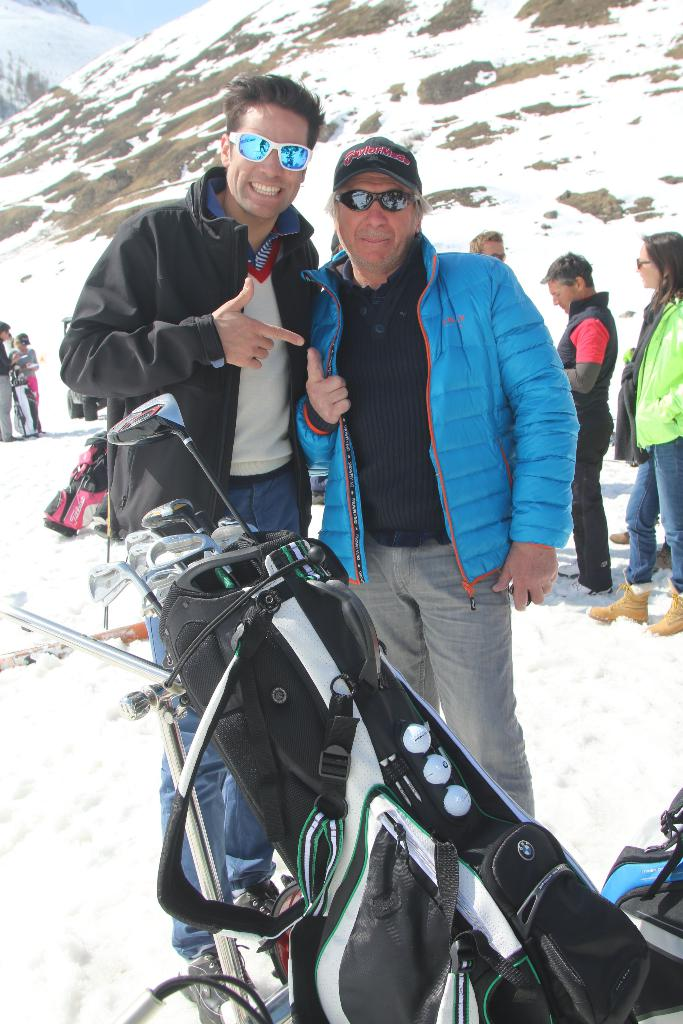Footwear: (176, 943, 258, 1023), (586, 570, 645, 623), (554, 560, 613, 597), (234, 874, 278, 922), (651, 582, 682, 633), (649, 545, 673, 571), (609, 531, 630, 545)
